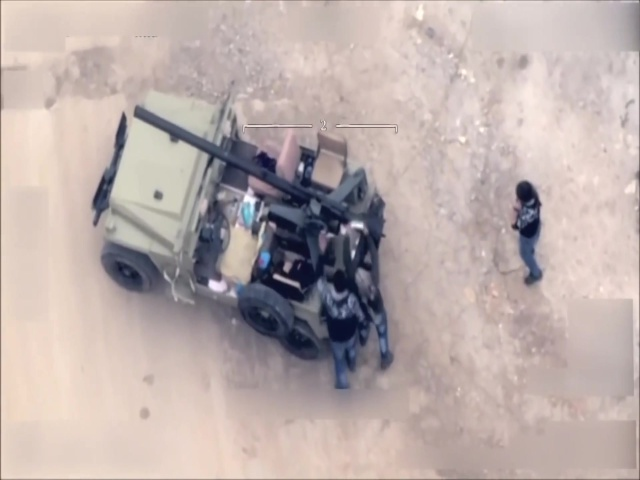person: (315, 268, 360, 392), (348, 257, 396, 371), (507, 180, 549, 288)
vehicle: (88, 89, 388, 363)
